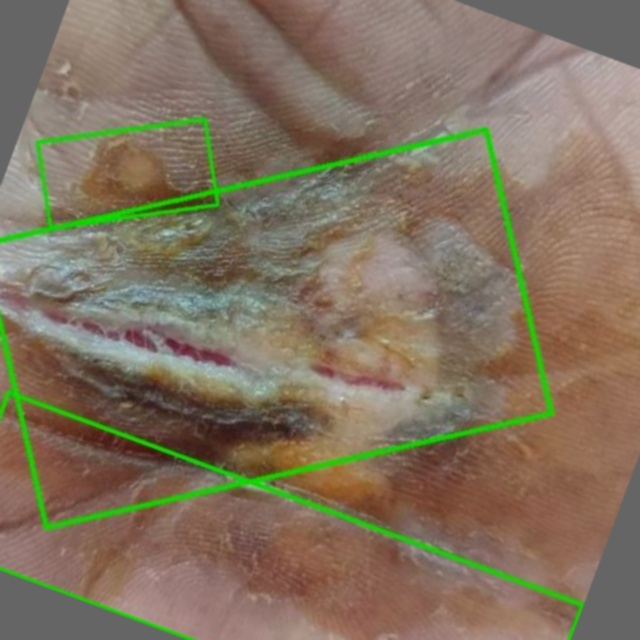Eczema: (0, 130, 551, 528), (0, 392, 582, 639), (38, 120, 217, 228)
